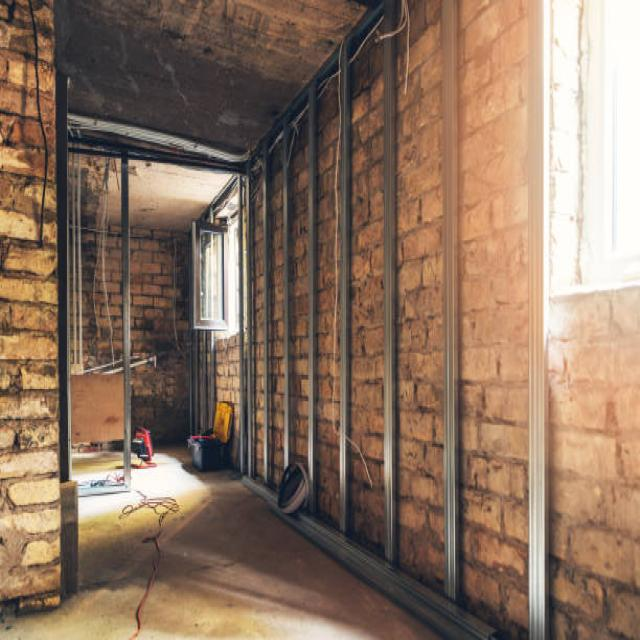floor: (0, 440, 457, 640), (73, 450, 124, 488)
wall: (457, 0, 530, 639), (0, 0, 59, 615), (54, 17, 302, 152), (547, 285, 640, 640), (394, 0, 446, 596), (346, 32, 386, 560), (315, 67, 344, 530), (129, 229, 190, 444), (289, 113, 308, 476), (268, 137, 284, 487), (82, 231, 111, 370), (252, 189, 265, 482), (215, 335, 239, 464), (105, 227, 123, 361)
